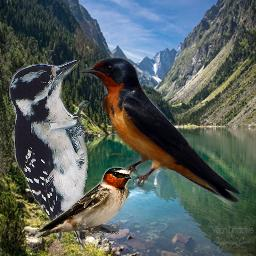Swallow: (79, 57, 241, 206), (36, 166, 132, 238)
Woodpecker: (9, 60, 94, 254)
